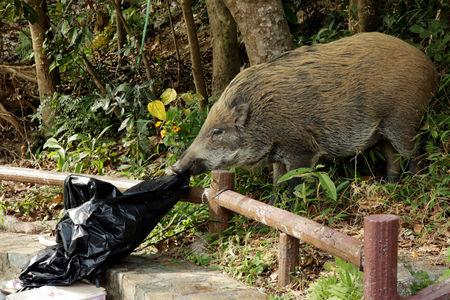boar: (162, 24, 442, 201)
